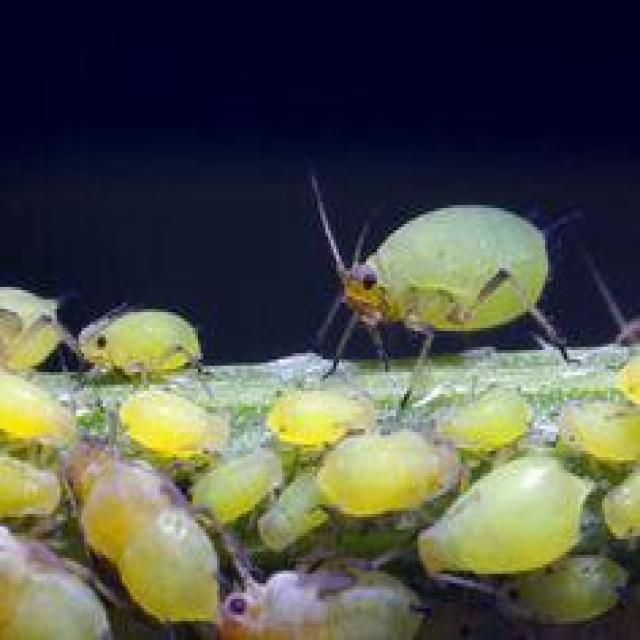Aphids: (55, 316, 630, 635), (281, 140, 628, 379)
